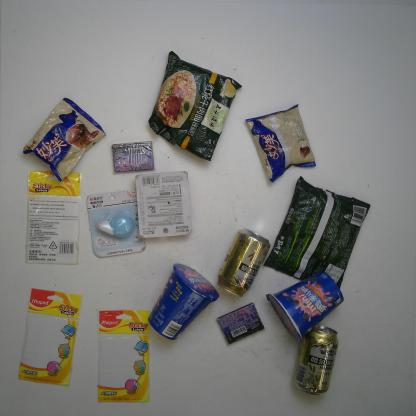Alcohol: (214, 225, 271, 299), (291, 322, 340, 398)
Dessert: (22, 95, 107, 185), (264, 270, 346, 344), (245, 102, 318, 185), (147, 260, 220, 342)
Gum: (216, 301, 266, 348), (110, 140, 156, 174)
Instant Noodles: (262, 174, 372, 295), (146, 49, 242, 164)
Stationery: (16, 286, 84, 388), (23, 170, 83, 267), (95, 308, 153, 404), (85, 188, 147, 259), (134, 169, 194, 240)
